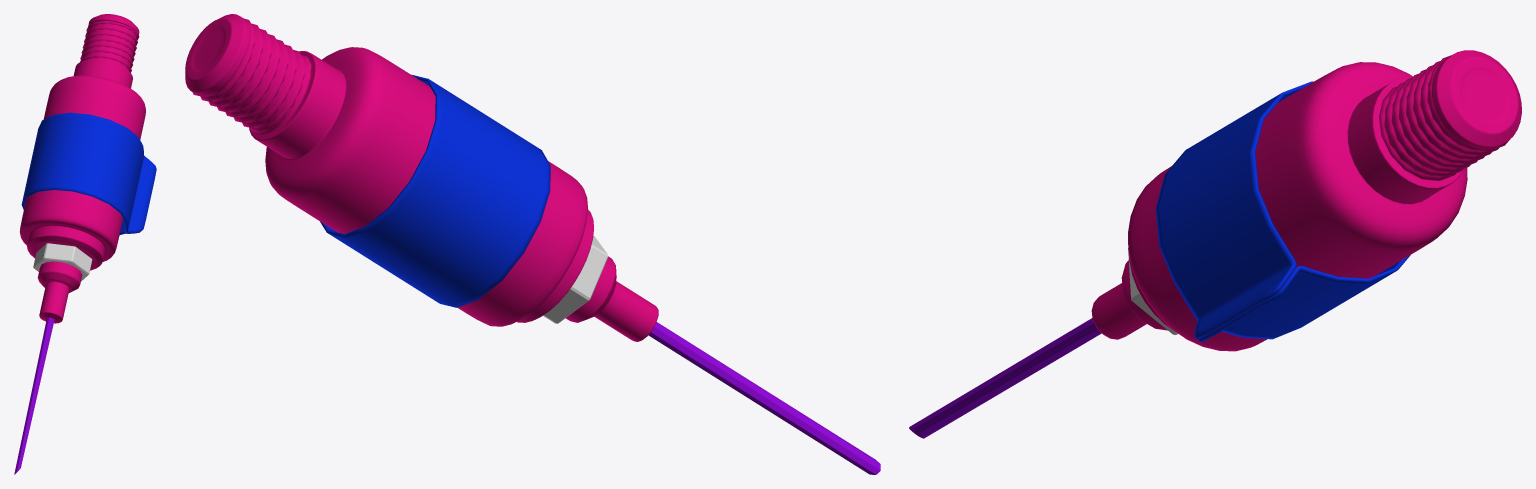
Rendered from Needles with ID mask V2.fbx.
3 renders of one model, left to right at view 1: azimuth 30°, elevation 25°; view 2: azimuth 150°, elevation 25°; view 3: azimuth 270°, elevation 25°, orthographic. The views are drawn at different scales.
Visible parts, largest first — view 1: 00-6 Right Needle; view 2: 00-6 Right Needle; view 3: 00-6 Right Needle.
Boxes of the visible parts, x1,y1,x2,y2 form: 00-6 Right Needle: (14, 14, 156, 474); 00-6 Right Needle: (185, 14, 880, 474); 00-6 Right Needle: (909, 50, 1521, 438).
Size of the model in its own units: 152 by 170 by 155.
